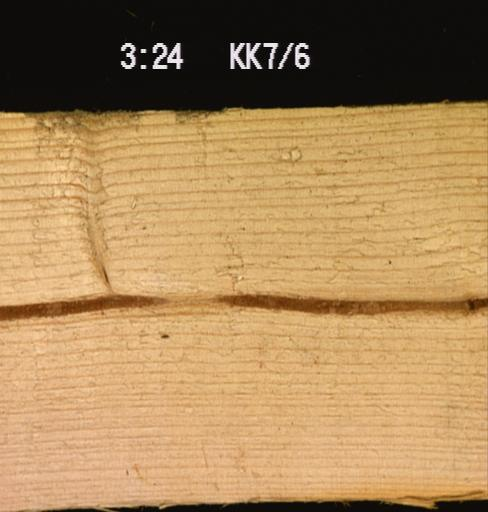wave: (369, 484, 487, 508)
